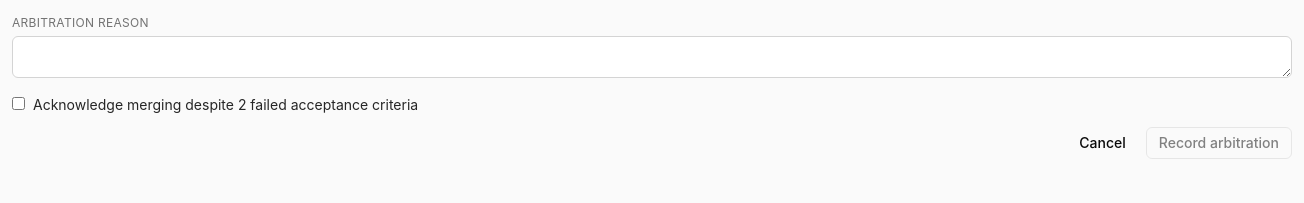
Test case: DecisionPanel — failure modes leave the item (onResolved not called) › F4: acceptance 409 requires_acknowledgement surfaces the error, no resolve
Type "ship" into the text box labelled "Arbitration reason" at (652, 57), box [12,36,1292,78]
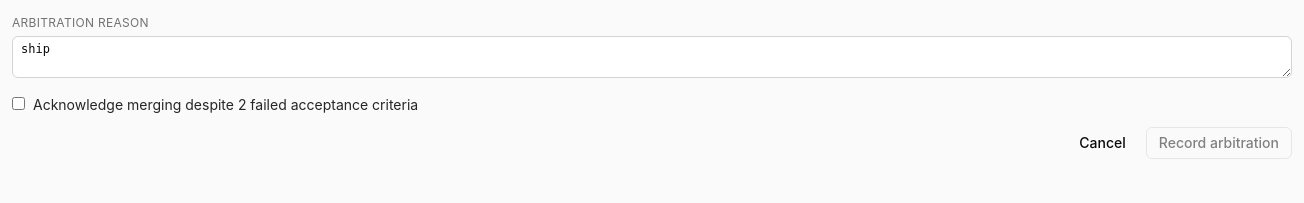
Click the checkbox labelled "Acknowledge merging despite 2 failed acceptance criteria" at (18, 104), box [12,97,25,110]
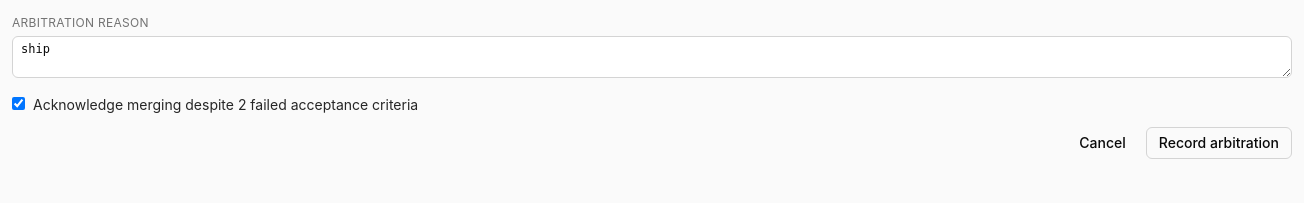
Click the button "Record arbitration" at (1219, 143), box [1146,127,1292,159]
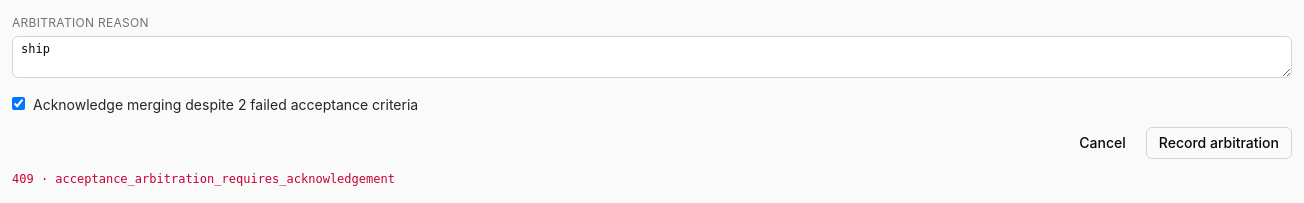
Expected: the message shows "acceptance_arbitration_requires_acknowledgement", [12,172,395,186]
